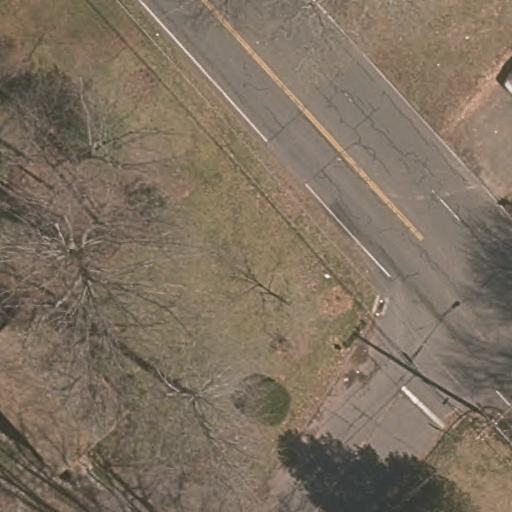DT: (465, 399, 509, 447)
